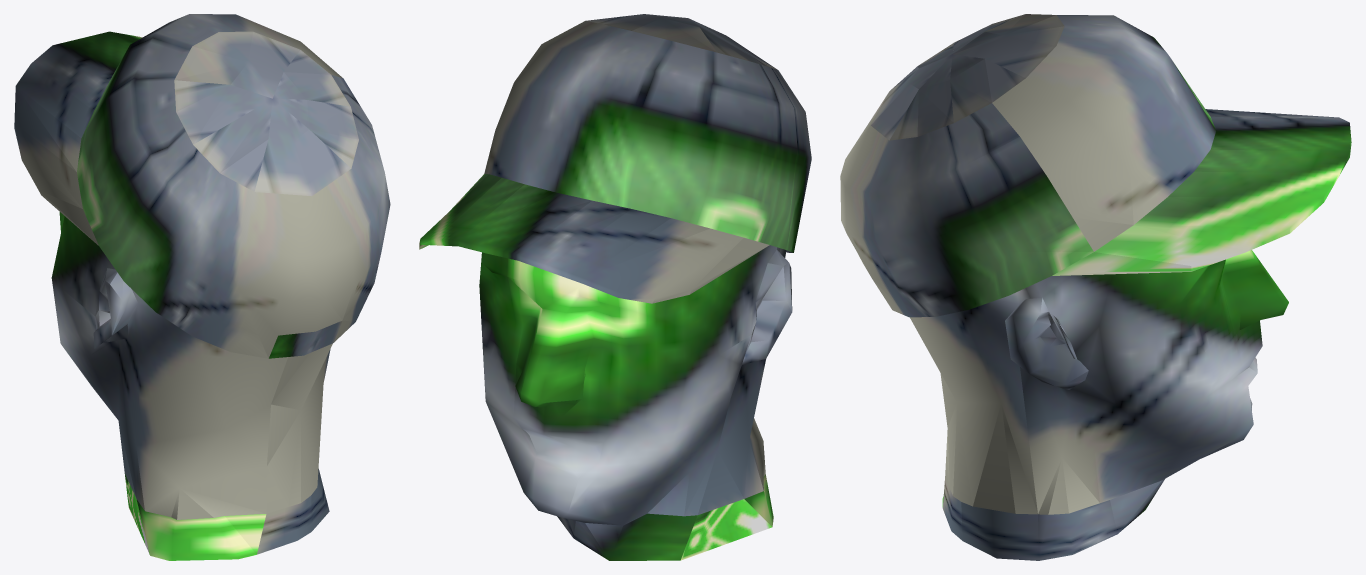
File: icon.ico.obj
3 renders of one model, left to right at view 1: azimuth 30°, elevation 25°; view 2: azimuth 150°, elevation 25°; view 3: azimuth 270°, elevation 25°, orthographic. The views are drawn at different scales.
Bounding box in the file's own units: 2.79 × 4.83 × 4.54.
